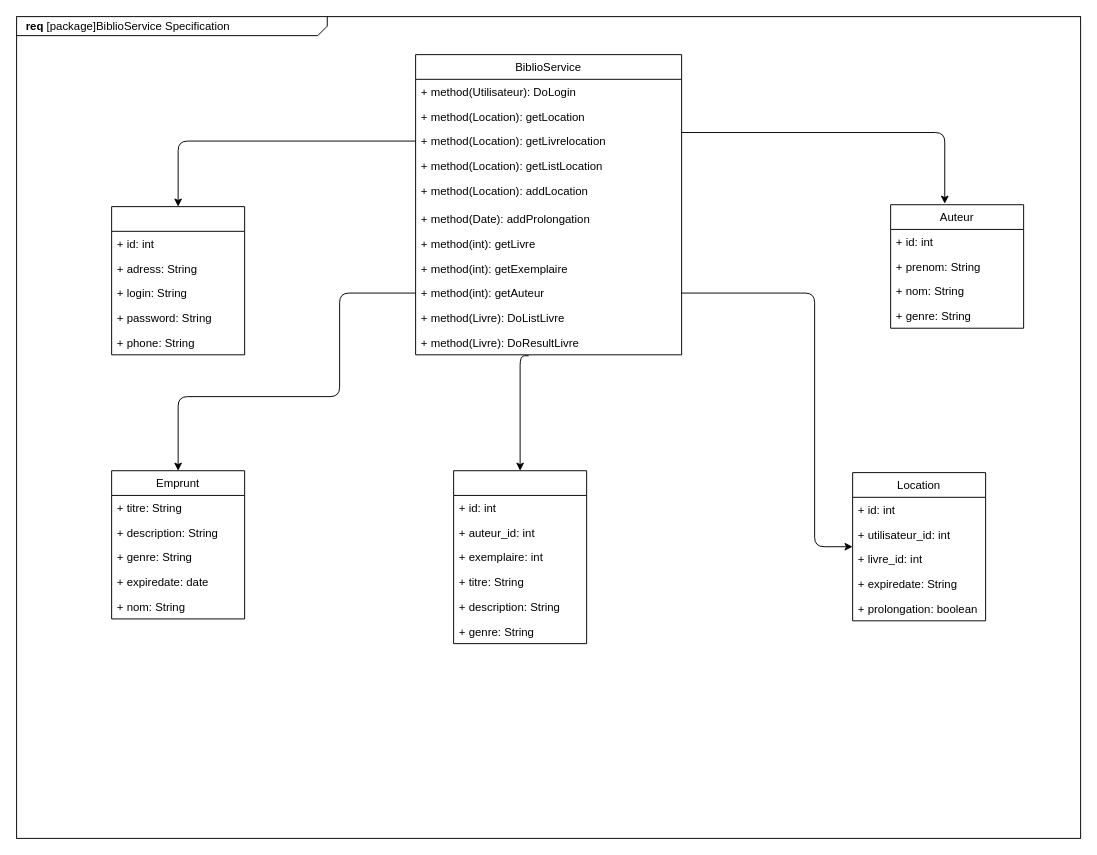
Image size: 1097x855. Some labels were removed from this diagram. The box of each missing label's shape, as (x1, y1, x2, y2) in pixels:
Livre: (453, 470, 587, 644)
Utilisateur: (111, 206, 245, 355)
